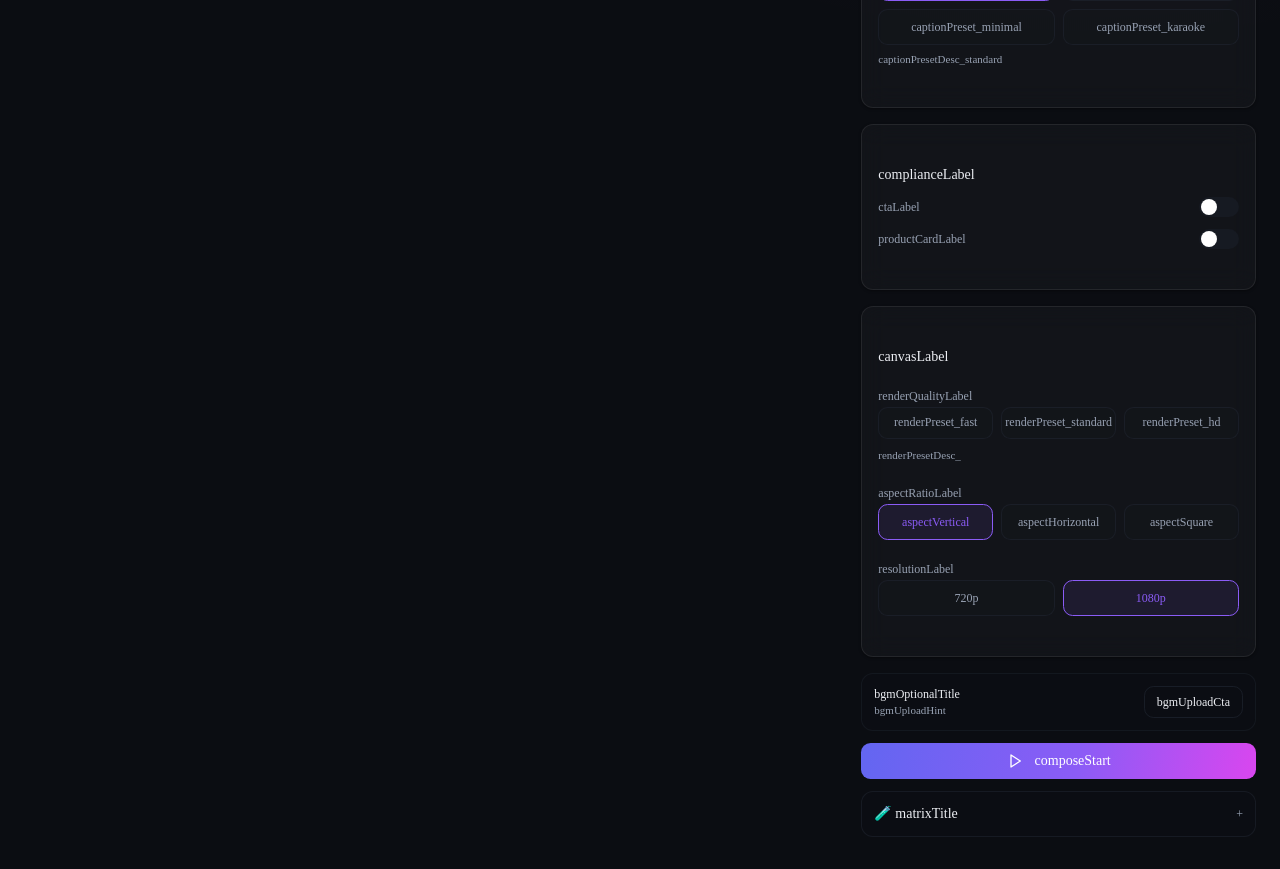
Test: settings-owned voice services › uses the global disabled default for ordinary projects while allowing composition without narration
(page scrolled)
Click the button "composeStart".
click(1059, 761)  # box [861,743,1256,779]
(page scrolled)
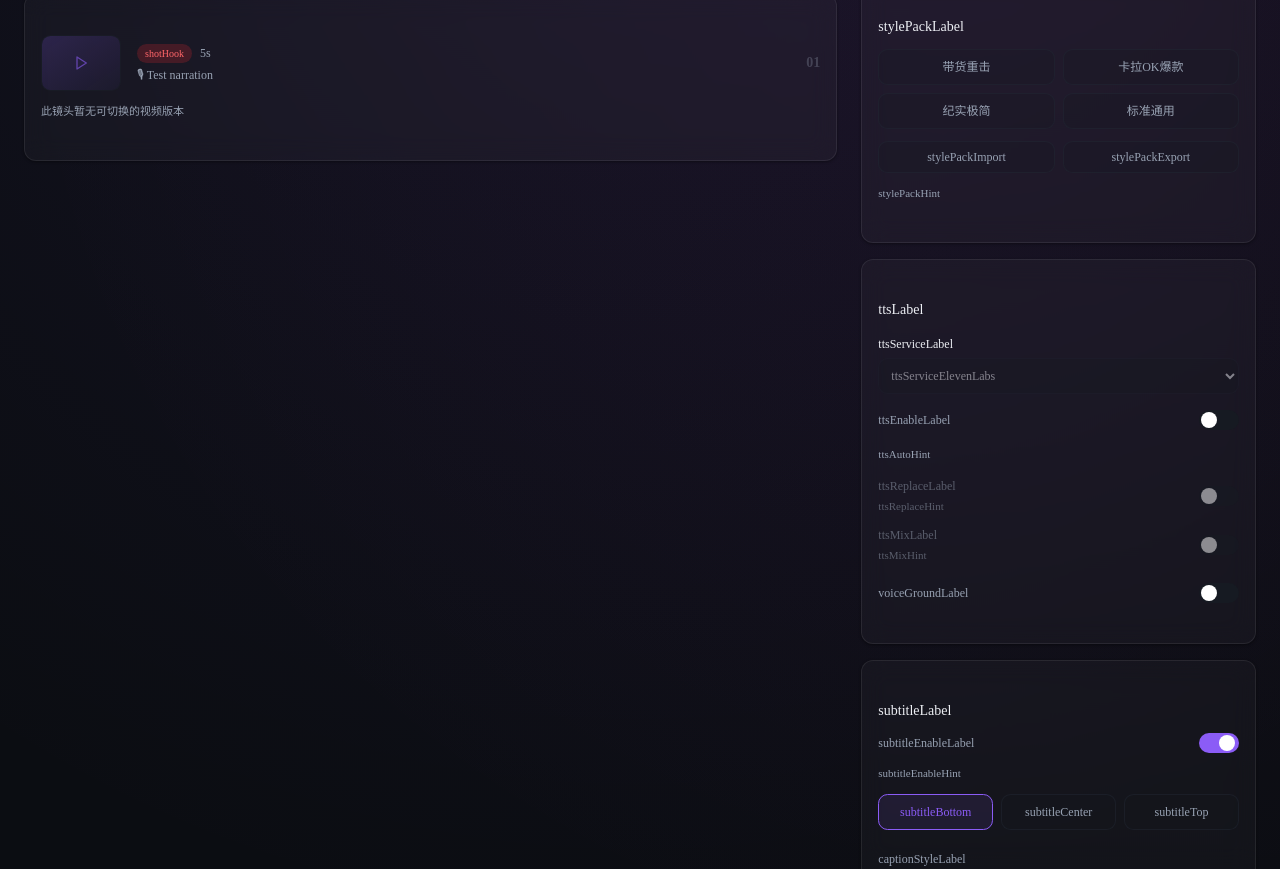
Click the switch named "ttsEnableLabel".
click(1219, 420)  # box [1199,410,1239,430]
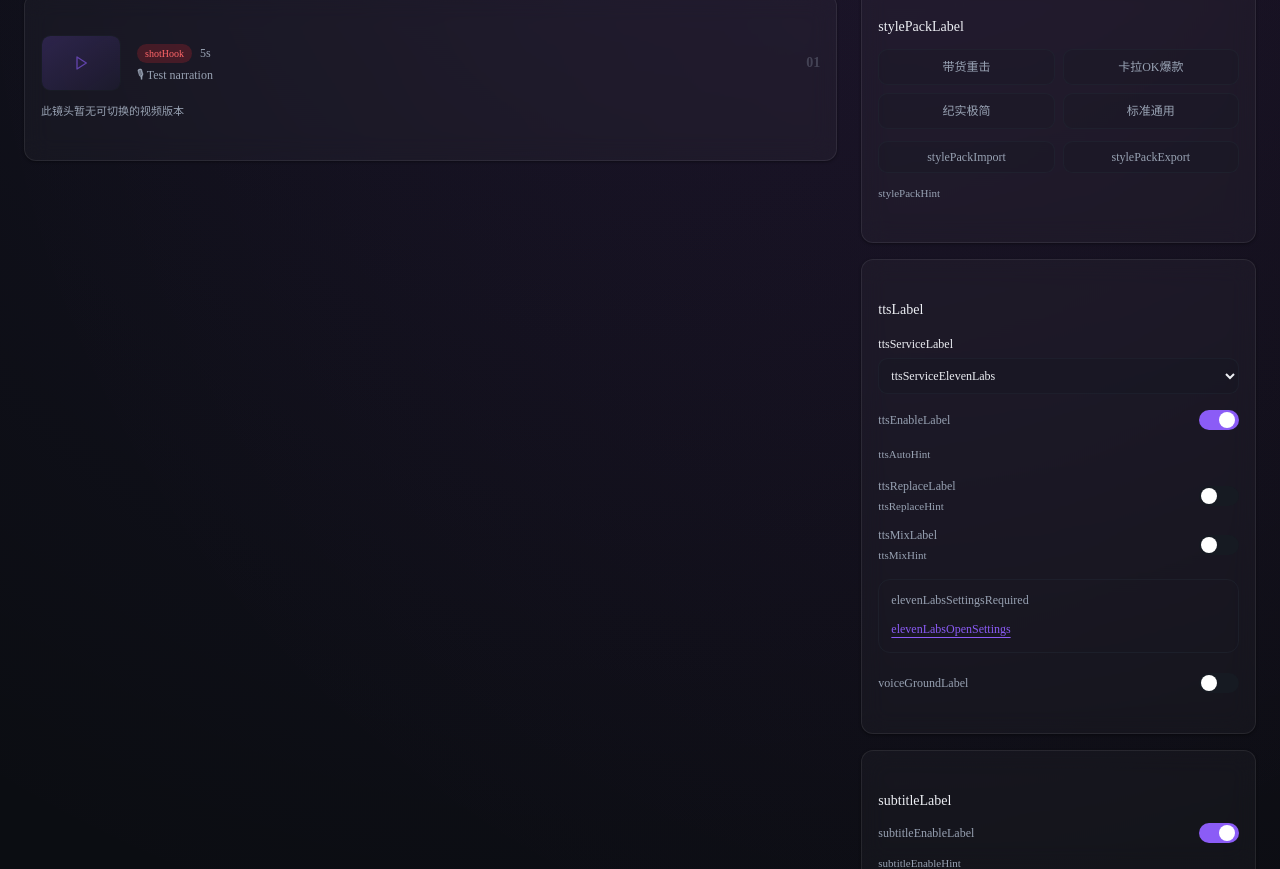
Expected: the link to "/settings?tab=tts" is shown, [891,622,1011,636]
